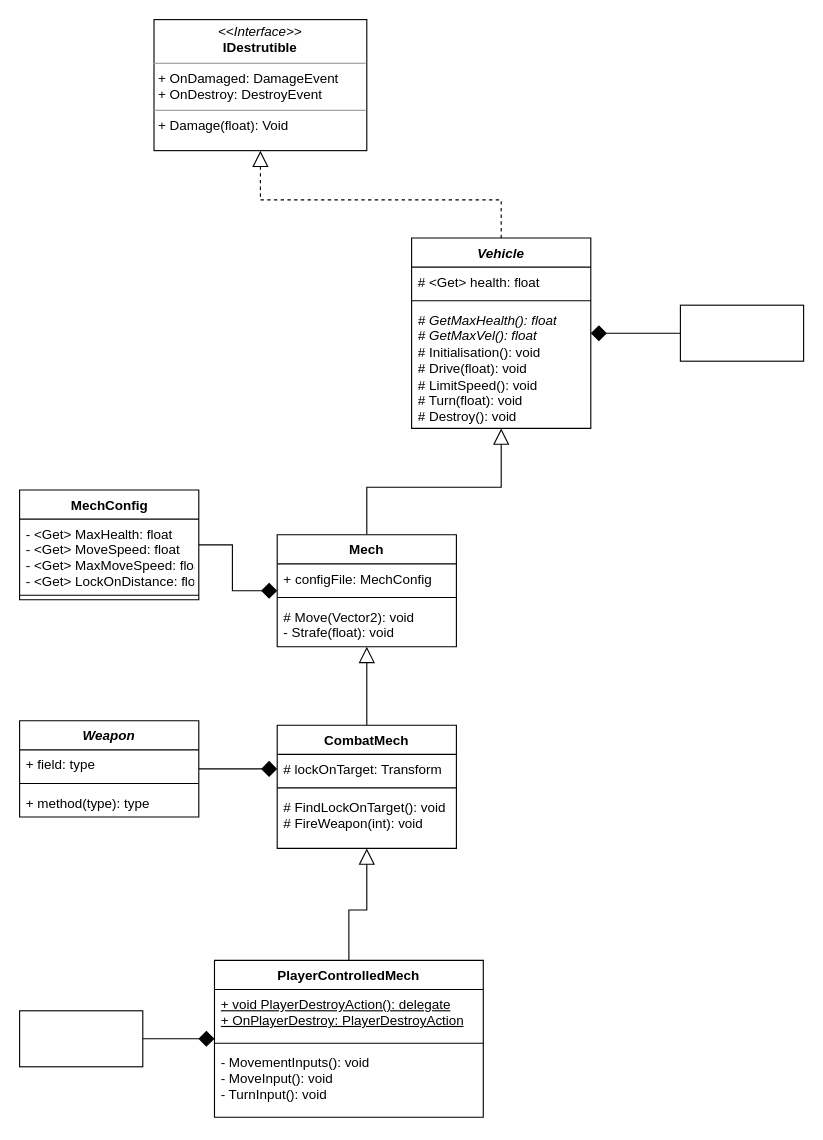
Image size: 823x1140. Some labels were removed from this diagram. The shapes that lost their labels are listed below. From the top down, each one's centre as x and y in pixels, then its label:
pixel 741 332: Rigidbody
pixel 80 1038: PlayerInput
